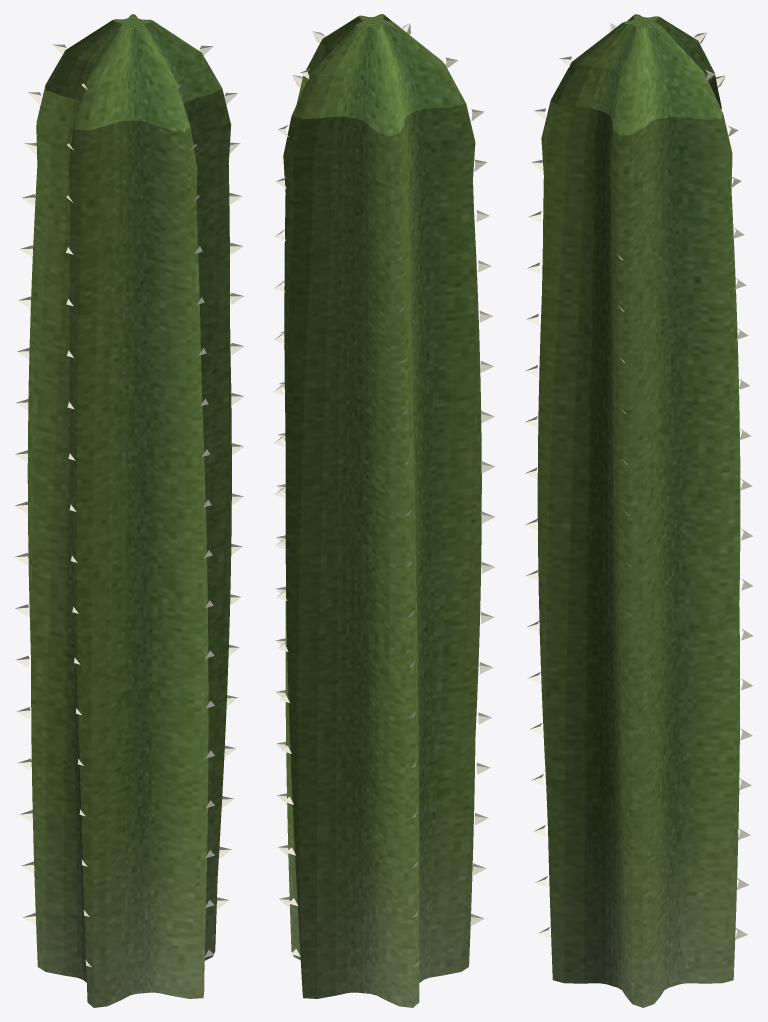
File: pohon_kaktus.glb
3 views of the same model, side by side, from view 1: azimuth 30°, elevation 25°; view 2: azimuth 150°, elevation 25°; view 3: azimuth 270°, elevation 25° (orthographic).
Visible parts, largest first — view 1: Batang_Kaktus_5_Rusuk, Duri_Areol_Kaktus; view 2: Batang_Kaktus_5_Rusuk, Duri_Areol_Kaktus; view 3: Batang_Kaktus_5_Rusuk, Duri_Areol_Kaktus.
Boxes of the visible parts, left/top/right/bottom form: Batang_Kaktus_5_Rusuk: left=27, top=14, right=231, bottom=1007; Duri_Areol_Kaktus: left=14, top=44, right=244, bottom=967; Batang_Kaktus_5_Rusuk: left=283, top=14, right=481, bottom=1007; Duri_Areol_Kaktus: left=273, top=23, right=495, bottom=967; Batang_Kaktus_5_Rusuk: left=537, top=14, right=740, bottom=1007; Duri_Areol_Kaktus: left=524, top=23, right=753, bottom=939.
Bounding box in the file's own units: 0.148 × 0.68 × 0.1496.
Materials: 2 (1 with a texture image).
